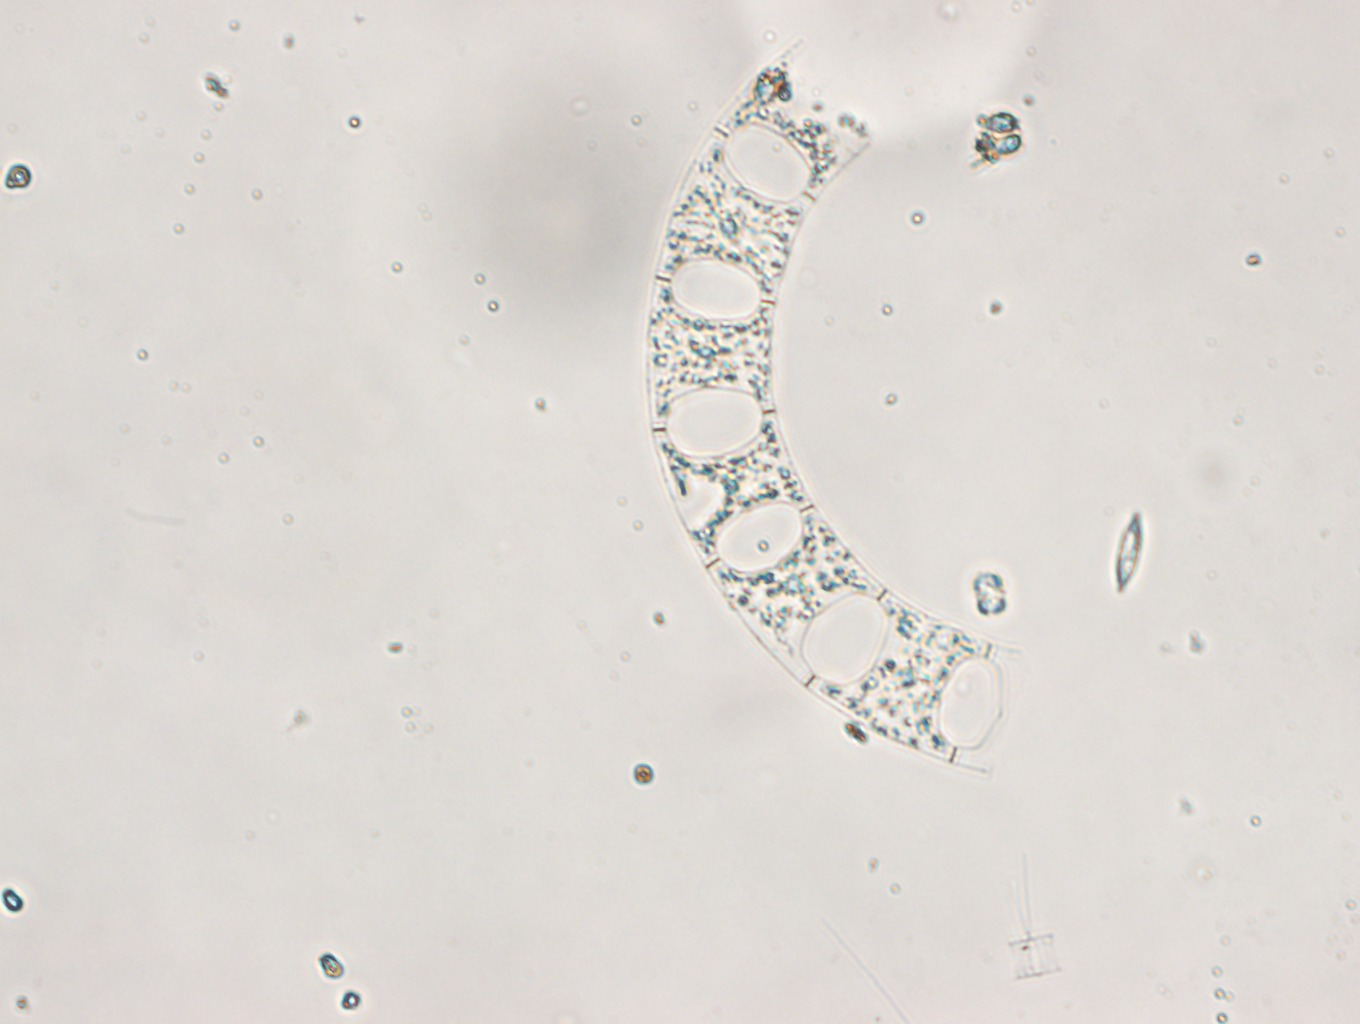chaetoceros: (1005, 853, 1061, 985)
eucampia: (638, 33, 1019, 776)
